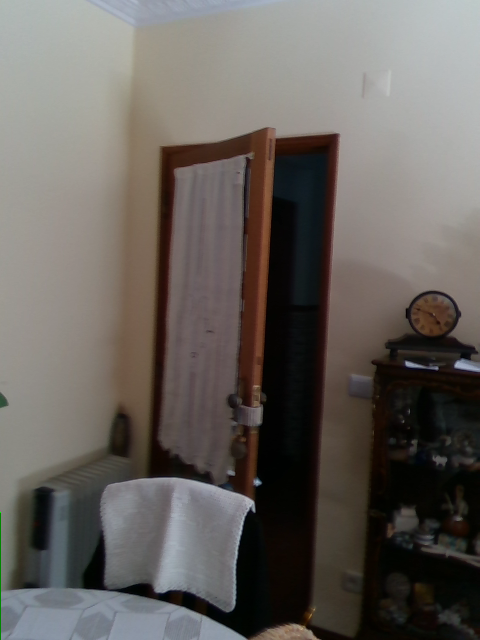semi: (143, 130, 340, 622)
